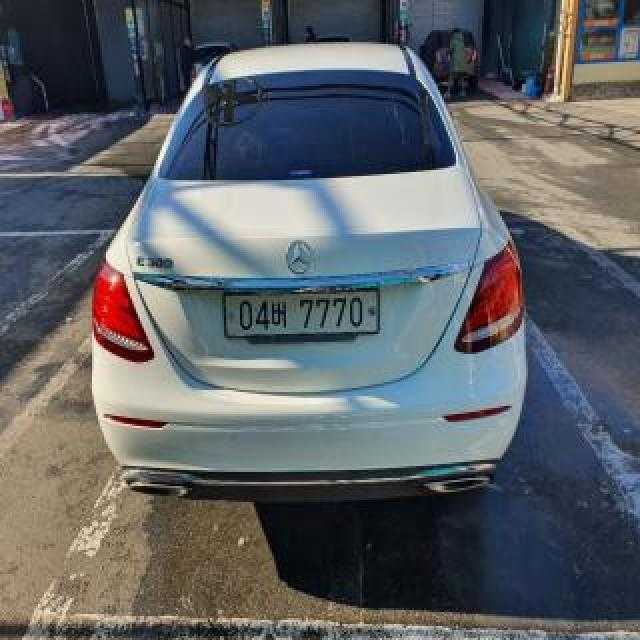car: (83, 26, 532, 519)
illegal_plate: (223, 286, 384, 343)
